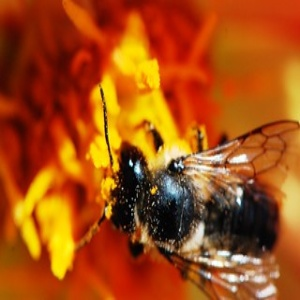bee: (88, 87, 297, 299)
